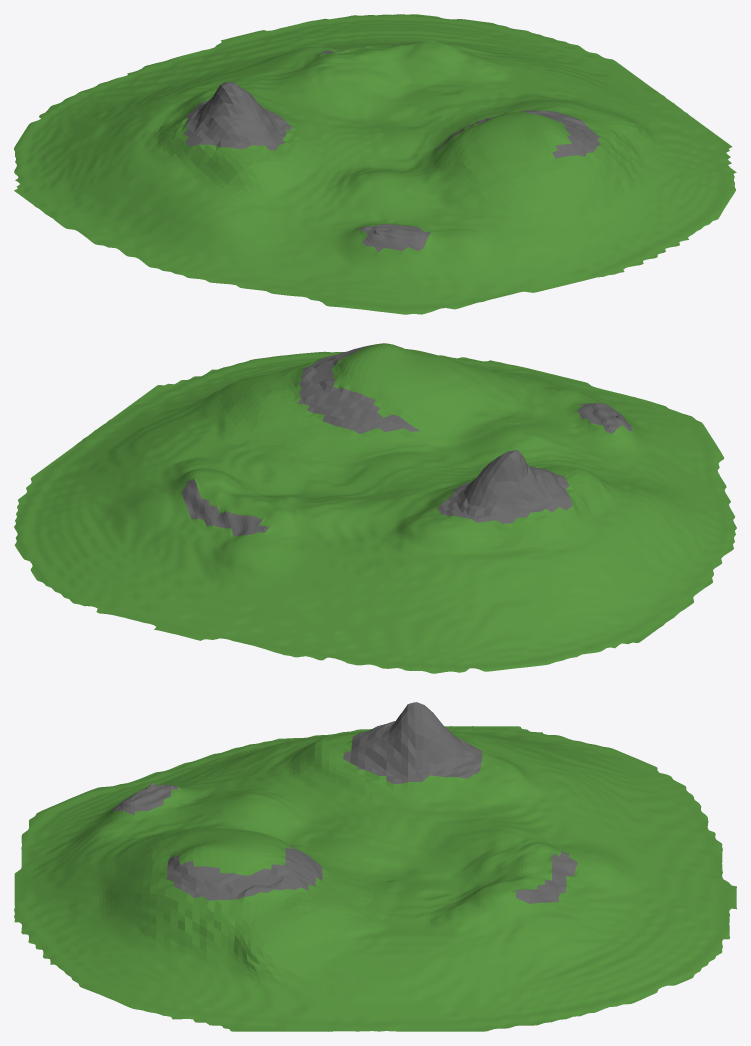
File: mountain3.fbx
3 views of the same model, one above another, from view 1: azimuth 30°, elevation 25°; view 2: azimuth 150°, elevation 25°; view 3: azimuth 270°, elevation 25° (orthographic). The views are drawn at different scales.
Visible parts, largest first — view 1: Cube; view 2: Cube; view 3: Cube.
Boxes of the visible parts, x1=… form: Cube: x1=14, y1=14, x2=736, y2=314; Cube: x1=14, y1=343, x2=736, y2=673; Cube: x1=14, y1=702, x2=736, y2=1031.
Size of the model in its own units: 1187 by 200 by 1186.
